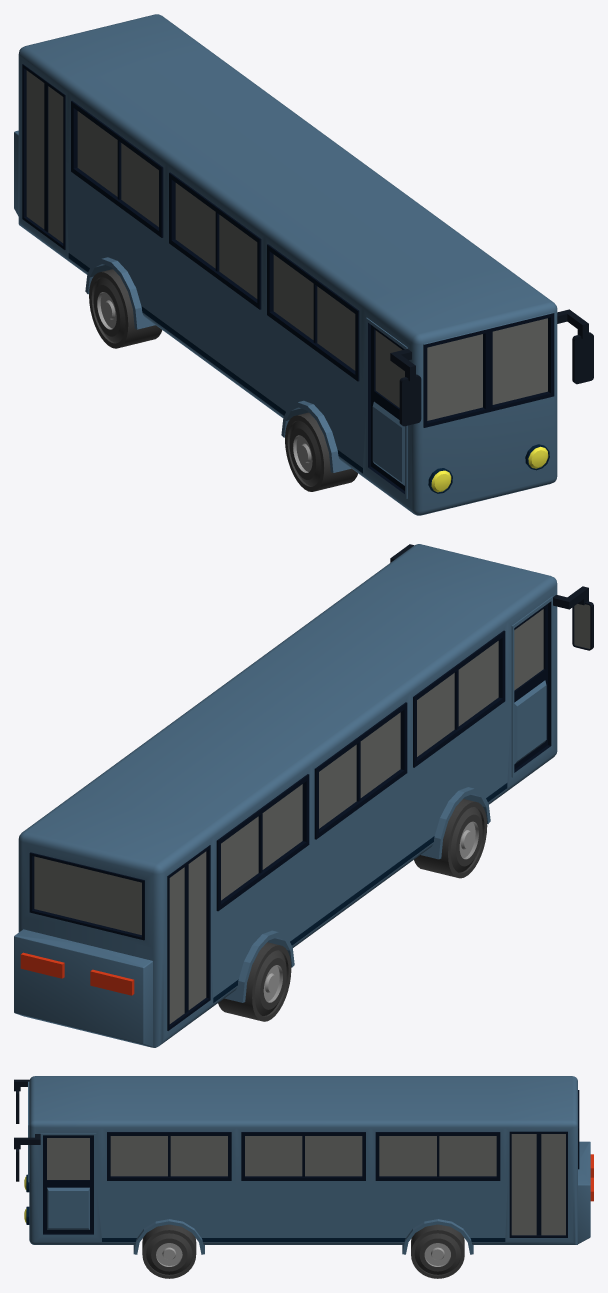
The model's file is city-bus.fbx.
3 views of the same model, one above another, from view 1: azimuth 30°, elevation 25°; view 2: azimuth 150°, elevation 25°; view 3: azimuth 270°, elevation 25° (orthographic). The views are drawn at different scales.
Parts seen in each view (by area): view 1: city-bus, bus-rear-wheels.001, bus-front-wheels.001; view 2: city-bus, bus-rear-wheels.001, bus-front-wheels.001; view 3: city-bus, bus-front-wheels.001, bus-rear-wheels.001.
Boxes of the visible parts, x1,y1,x2,y2 form: city-bus: [14, 14, 593, 515]; bus-rear-wheels.001: [89, 269, 162, 348]; bus-front-wheels.001: [285, 412, 357, 491]; city-bus: [14, 544, 593, 1047]; bus-rear-wheels.001: [218, 942, 291, 1021]; bus-front-wheels.001: [414, 799, 487, 878]; city-bus: [14, 1076, 593, 1254]; bus-front-wheels.001: [142, 1224, 196, 1278]; bus-rear-wheels.001: [411, 1224, 464, 1278].
Size of the model in its own units: 2.81 by 3.12 by 10.73.
